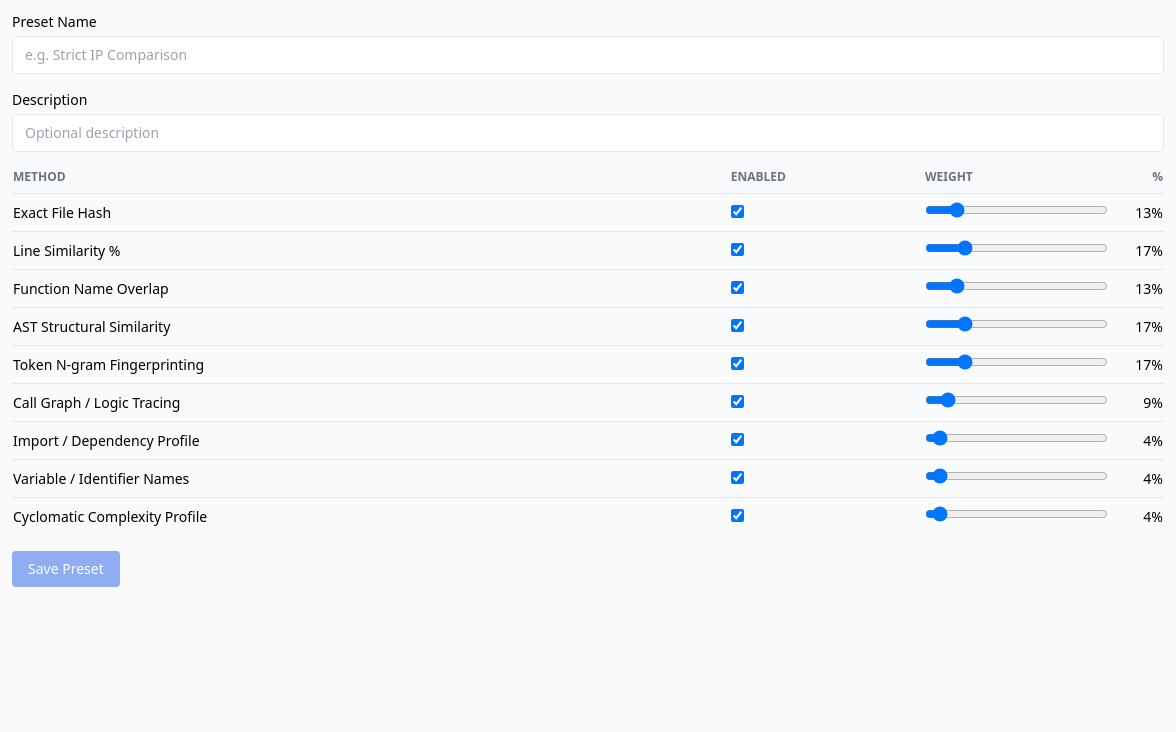
Scenario: ConfigEditor › save button is enabled after name is typed
In the field labelled "Preset Name": x=588, y=55 [12,36,1164,74], type "My Preset"
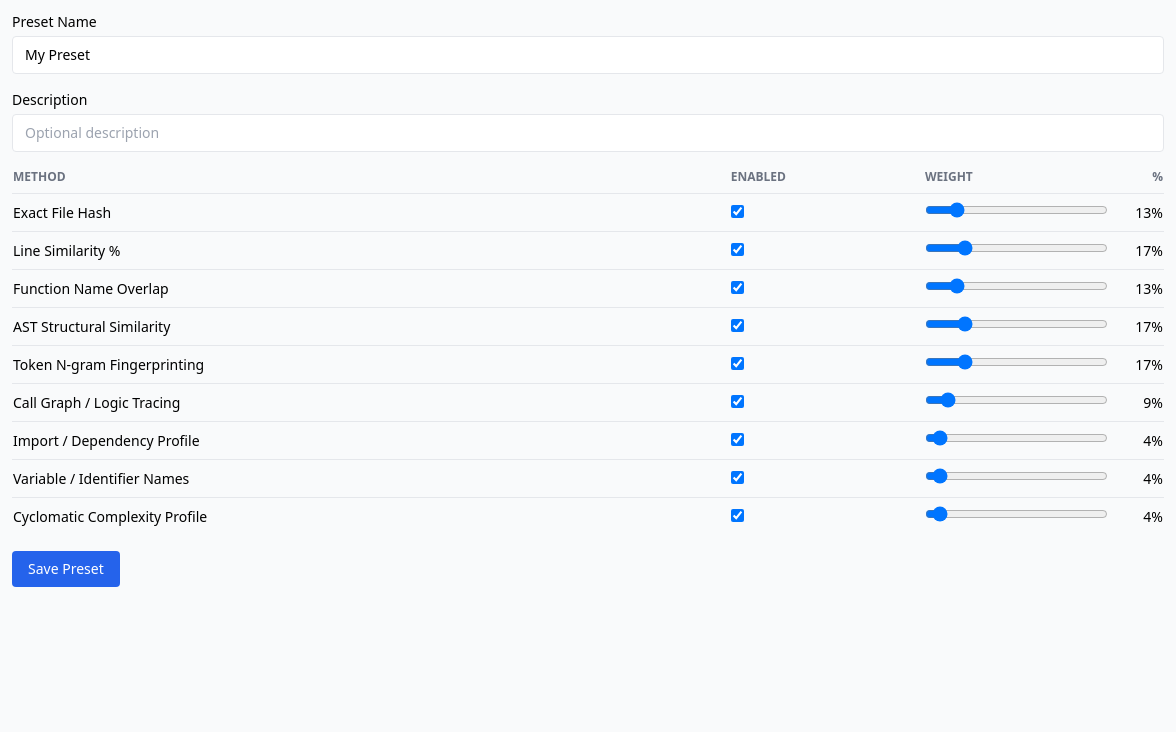
Now the button "Save Preset" is enabled, box [12,551,120,587]
